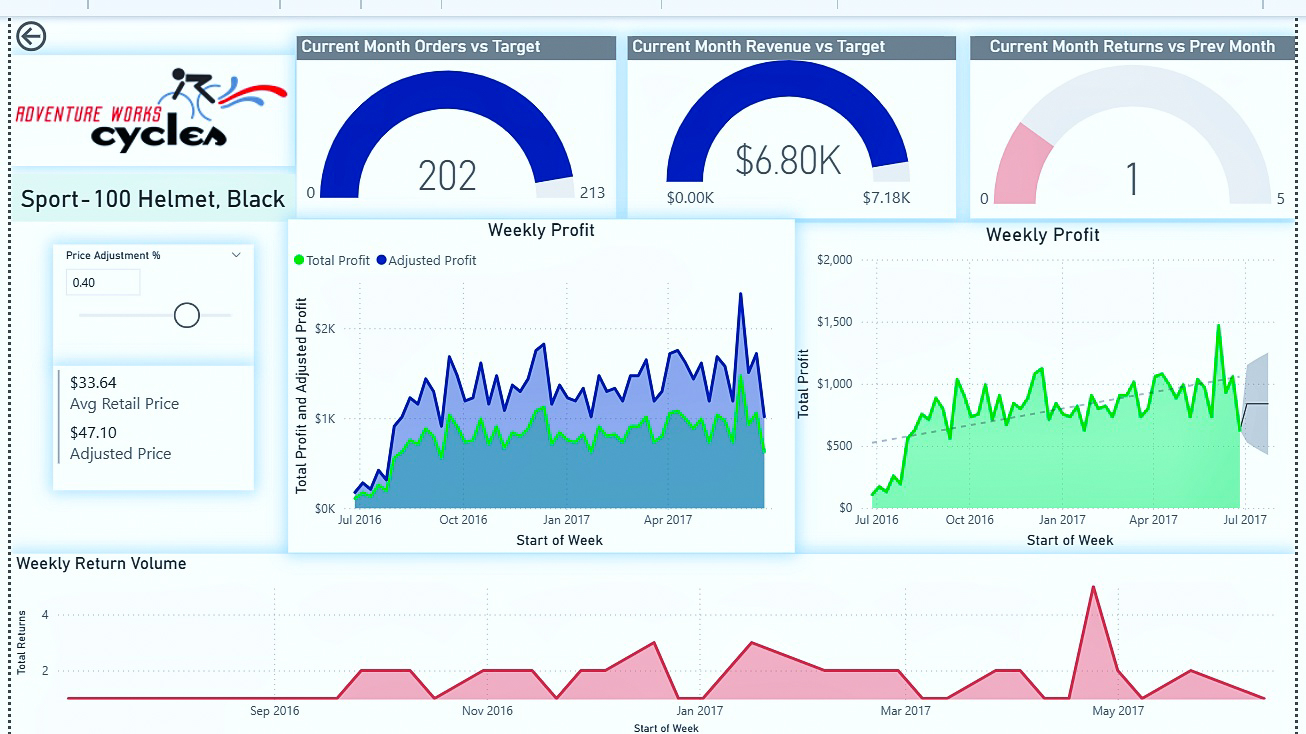

Layout of this report page (visuals, bound fields, positions):
{"tool":"powerbi","page":{"name":"Product Detail","canvas":[1280,720],"ordinal":0},"visuals":[{"type":"image","box":[0,38.9,283.3,111.1],"z":0},{"type":"lineChart","title":"Weekly Profit","fields":{"Category":["AW_Calendar_Lookup.Start of Week"],"Y":["AW_Sales.Total Profit"]},"box":[776.9,206.2,503.1,329.2],"z":1000},{"type":"stackedAreaChart","title":"Weekly Return Volume","fields":{"Category":["AW_Calendar_Lookup.Start of Week"],"Y":["AW_Returns.Total Returns"]},"box":[0,535.1,1279.7,185.1],"z":2000},{"type":"gauge","title":"Current Month Orders vs Target","fields":{"Y":["AW_Sales.Total Orders"],"MaxValue":["AW_Sales.Order Target"]},"box":[284.1,20.8,318.2,181.8],"z":3000},{"type":"gauge","title":"Current Month Revenue vs Target","fields":{"MaxValue":["AW_Sales.Revenue Target"],"Y":["AW_Sales.Total Revenue"]},"box":[613.6,20.8,327.6,181.8],"z":4000},{"type":"gauge","title":"Current Month Returns vs Prev Month","fields":{"Y":["AW_Returns.Total Returns"],"MaxValue":["AW_Sales.Prev Month Returns"]},"box":[956.4,20.8,323.9,181.8],"z":5000},{"type":"card","fields":{"Values":["Min(AW_Product_Lookup.ProductName)"]},"box":[0,157.7,283.3,47.4],"z":6000},{"type":"actionButton","box":[0,0,100,40],"z":7000},{"type":"slicer","fields":{"Values":["Price Adjustment %.Price Adjustment %"]},"box":[41.5,227.7,200,120],"z":8000},{"type":"multiRowCard","fields":{"Values":["AW_Product_Lookup.Avg Retail Price","AW_Product_Lookup.Adjusted Price"]},"box":[41.5,347.7,200,124.6],"z":9000},{"type":"lineChart","title":"Weekly Profit","fields":{"Category":["AW_Calendar_Lookup.Start of Week"],"Y":["AW_Sales.Total Profit","AW_Sales.Adjusted Profit"]},"box":[275.4,203.1,504.6,332.3],"z":10000}]}

Visuals, with their boxes in screenshot pixels (x1, y1, x2, y2), scaled from the page's 1280x720 canvas onto the 1306x734 screenshot:
image: bbox=(0, 40, 289, 153)
"Weekly Profit" lineChart: bbox=(793, 210, 1305, 546)
"Weekly Return Volume" stackedAreaChart: bbox=(0, 546, 1305, 733)
"Current Month Orders vs Target" gauge: bbox=(290, 21, 615, 207)
"Current Month Revenue vs Target" gauge: bbox=(626, 21, 960, 207)
"Current Month Returns vs Prev Month" gauge: bbox=(976, 21, 1305, 207)
card - Min(AW_Product_Lookup.ProductName): bbox=(0, 161, 289, 209)
actionButton: bbox=(0, 0, 102, 41)
slicer - Price Adjustment %.Price Adjustment %: bbox=(42, 232, 246, 354)
multiRowCard - AW_Product_Lookup.Avg Retail Price x AW_Product_Lookup.Adjusted Price: bbox=(42, 354, 246, 481)
"Weekly Profit" lineChart: bbox=(281, 207, 796, 546)
